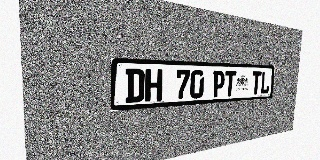0: (190, 70, 204, 99)
7: (175, 70, 190, 100)
D: (125, 68, 145, 103)
H: (145, 69, 163, 102)
L: (260, 71, 270, 94)
P: (212, 70, 225, 97)
T: (224, 71, 236, 97), (251, 71, 262, 95)
